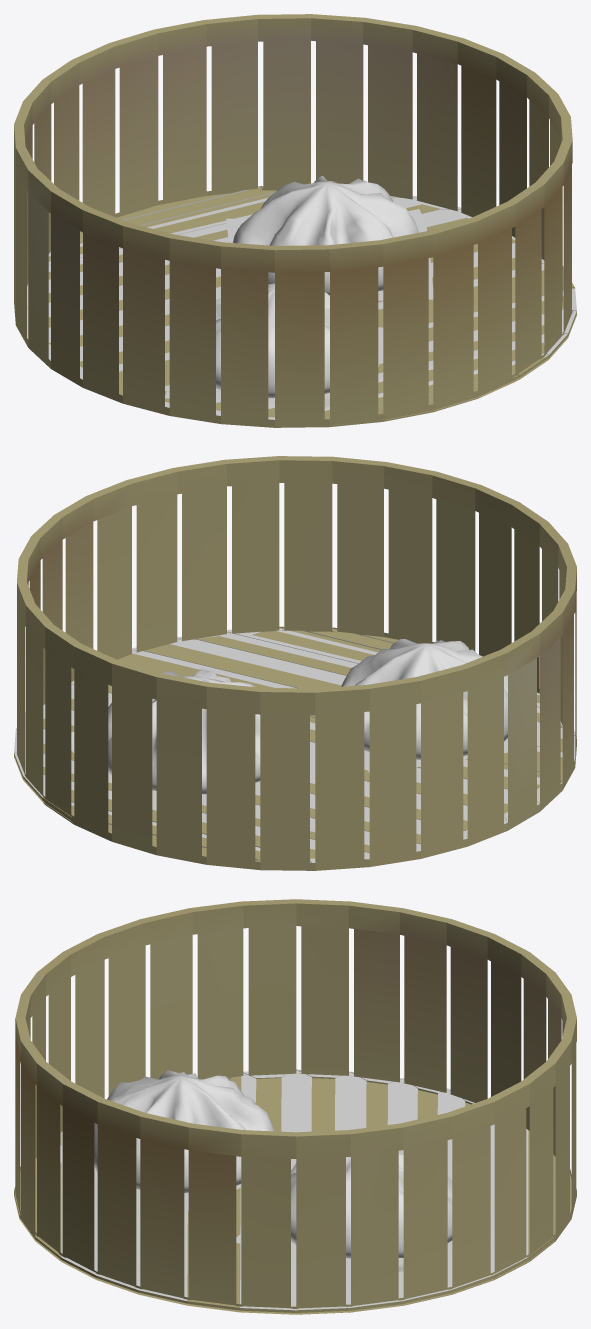
The model's file is cha-siu-bao.gltf.
The picture shows the model from 3 angles, top to bottom: view 1: azimuth 30°, elevation 25°; view 2: azimuth 150°, elevation 25°; view 3: azimuth 270°, elevation 25°; orthographic projection.
Parts seen in each view (by area): view 1: Cylinder.008, Cylinder.015, Cylinder.016, Plane.007; view 2: Cylinder.008, Cylinder.016, Cylinder.015; view 3: Cylinder.008, Cylinder.016, Cylinder.015.
Part boxes in pixels (box(x1,y1,x2,y2)): Cylinder.008: box(14, 14, 576, 427); Cylinder.015: box(233, 175, 418, 295); Cylinder.016: box(216, 283, 329, 397); Plane.007: box(226, 209, 433, 300); Cylinder.008: box(14, 456, 576, 870); Cylinder.016: box(341, 639, 507, 759); Cylinder.015: box(108, 669, 260, 794); Cylinder.008: box(14, 899, 576, 1314); Cylinder.016: box(94, 1070, 273, 1192); Cylinder.015: box(291, 1150, 452, 1258).
Size of the model in its own units: 14.33 by 4.98 by 14.26.
